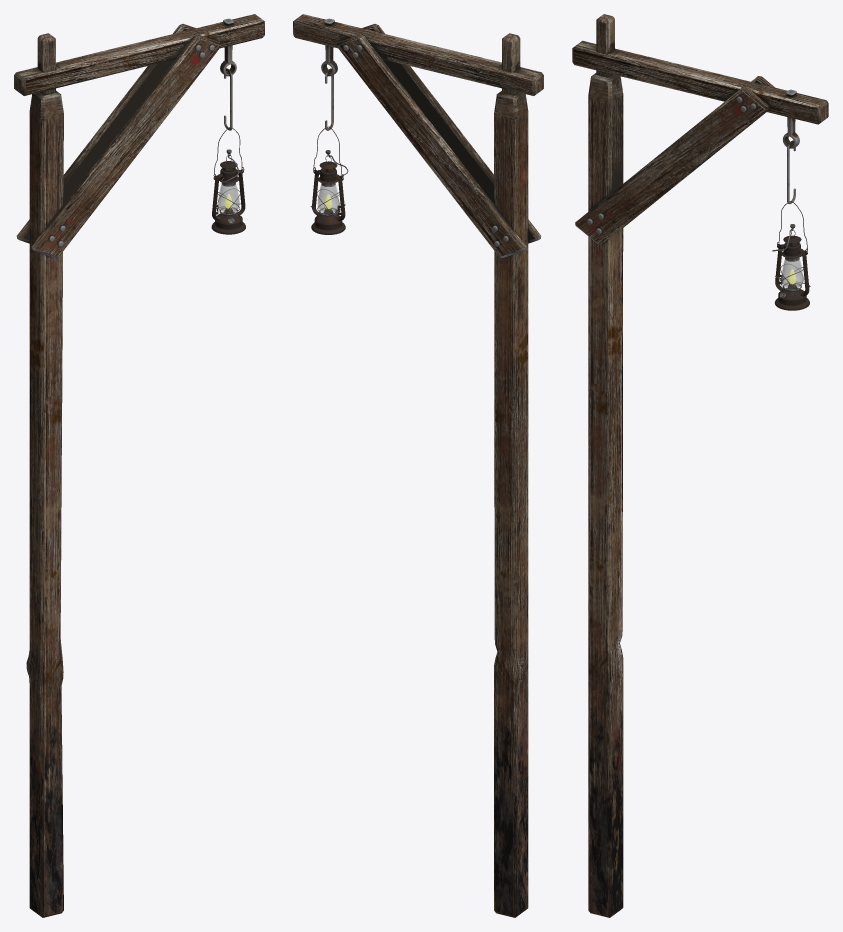
The model's file is lantern.gltf.
3 renders of one model, left to right at view 1: azimuth 30°, elevation 25°; view 2: azimuth 150°, elevation 25°; view 3: azimuth 330°, elevation 25°, orthographic. The views are drawn at different scales.
Visible parts, largest first — view 1: Wood, Lantern; view 2: Wood, Lantern; view 3: Wood, Lantern.
Boxes of the visible parts, x1,y1,x2,y2 form: Wood: [14, 14, 264, 917]; Lantern: [211, 149, 245, 234]; Wood: [293, 14, 543, 917]; Lantern: [310, 150, 348, 234]; Wood: [572, 14, 828, 917]; Lantern: [772, 224, 810, 310].
Bounding box in the file's own units: 1.04 × 3.57 × 0.161.
4 materials, 2 textured.
